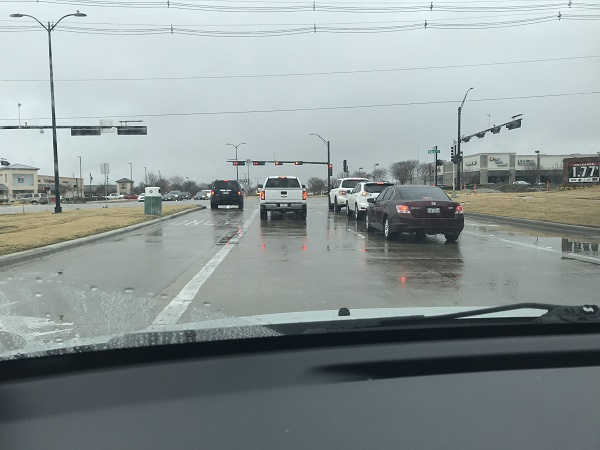car: (362, 185, 465, 243), (346, 183, 393, 218), (328, 177, 370, 209), (208, 181, 244, 209)
truck: (260, 175, 306, 213)
